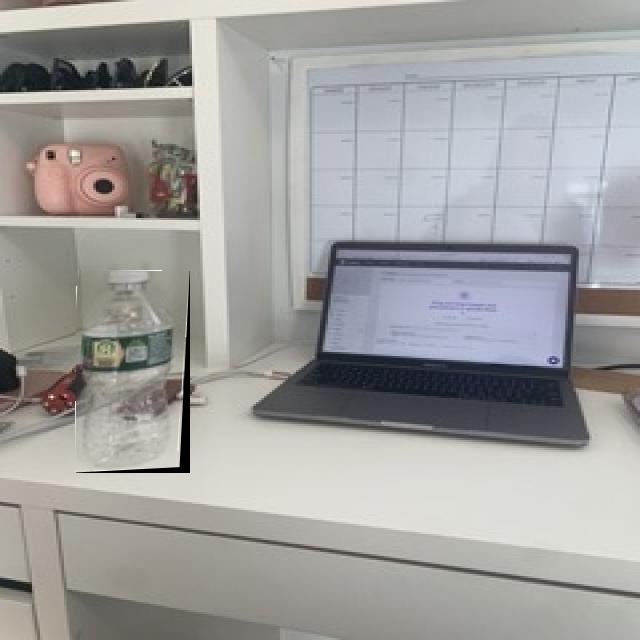water_bottle: (76, 271, 190, 473)
